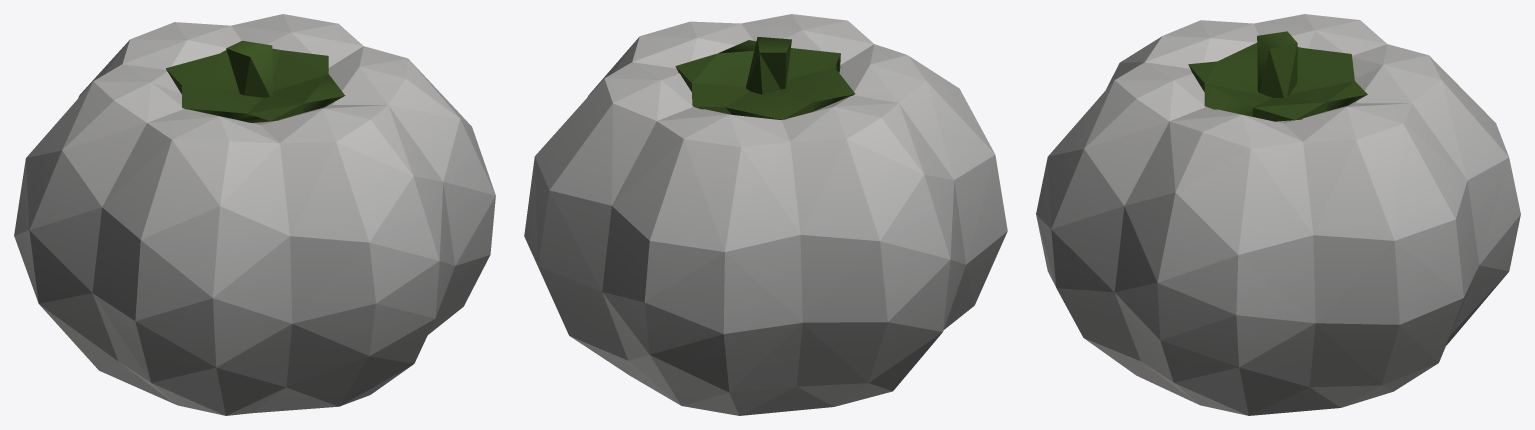
File: Pumpkin_01.fbx
3 renders of one model, left to right at view 1: azimuth 30°, elevation 25°; view 2: azimuth 150°, elevation 25°; view 3: azimuth 270°, elevation 25°, orthographic.
Visible parts, largest first — view 1: Pumpkin_01; view 2: Pumpkin_01; view 3: Pumpkin_01.
Boxes of the visible parts, left/top/right/bottom form: Pumpkin_01: left=14, top=14, right=495, bottom=415; Pumpkin_01: left=524, top=14, right=1007, bottom=415; Pumpkin_01: left=1036, top=14, right=1520, bottom=415.
Size of the model in its own units: 0.4527 by 0.3386 by 0.4603.
